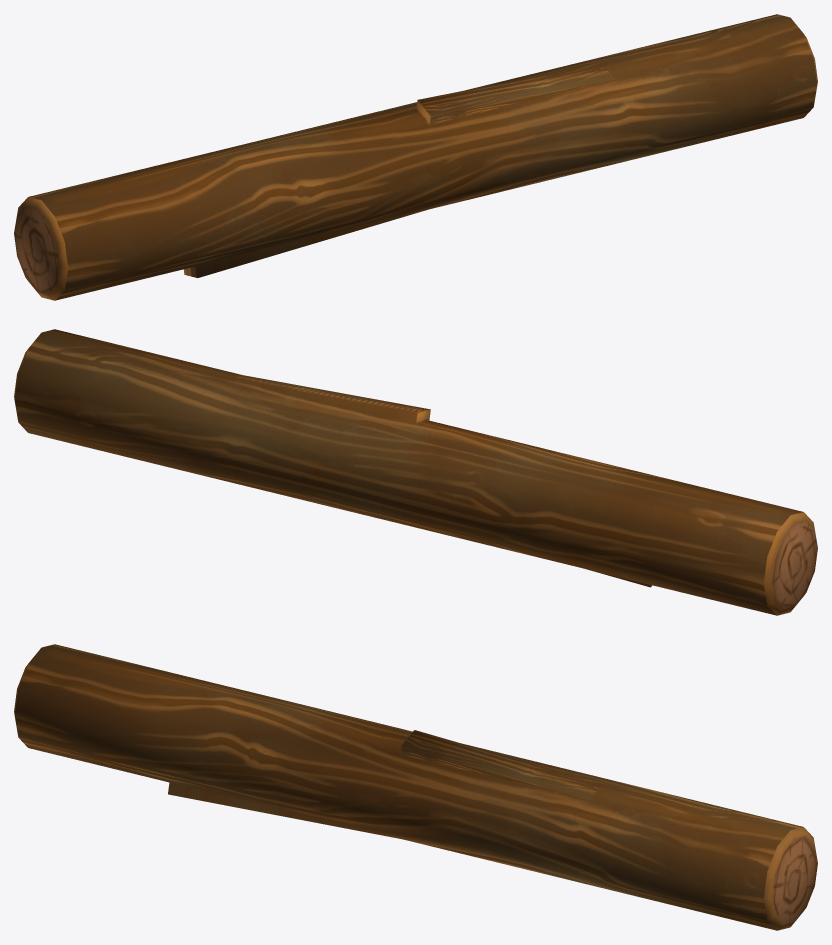
3 views of the same model, one above another, from view 1: azimuth 30°, elevation 25°; view 2: azimuth 150°, elevation 25°; view 3: azimuth 330°, elevation 25° (orthographic).
Visible parts, largest first — view 1: Cylinder.078; view 2: Cylinder.078; view 3: Cylinder.078.
Boxes of the visible parts, x1,y1,x2,y2 form: Cylinder.078: (14,14,817,300); Cylinder.078: (14,329,817,615); Cylinder.078: (14,644,817,930).
Bounding box in the file's own units: 331 × 49.3 × 40.58.
1 material, 1 textured.
